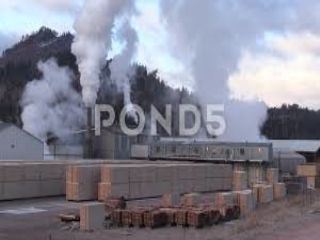smoke: (170, 4, 279, 142), (20, 56, 87, 146), (68, 1, 111, 116), (113, 20, 144, 122)
